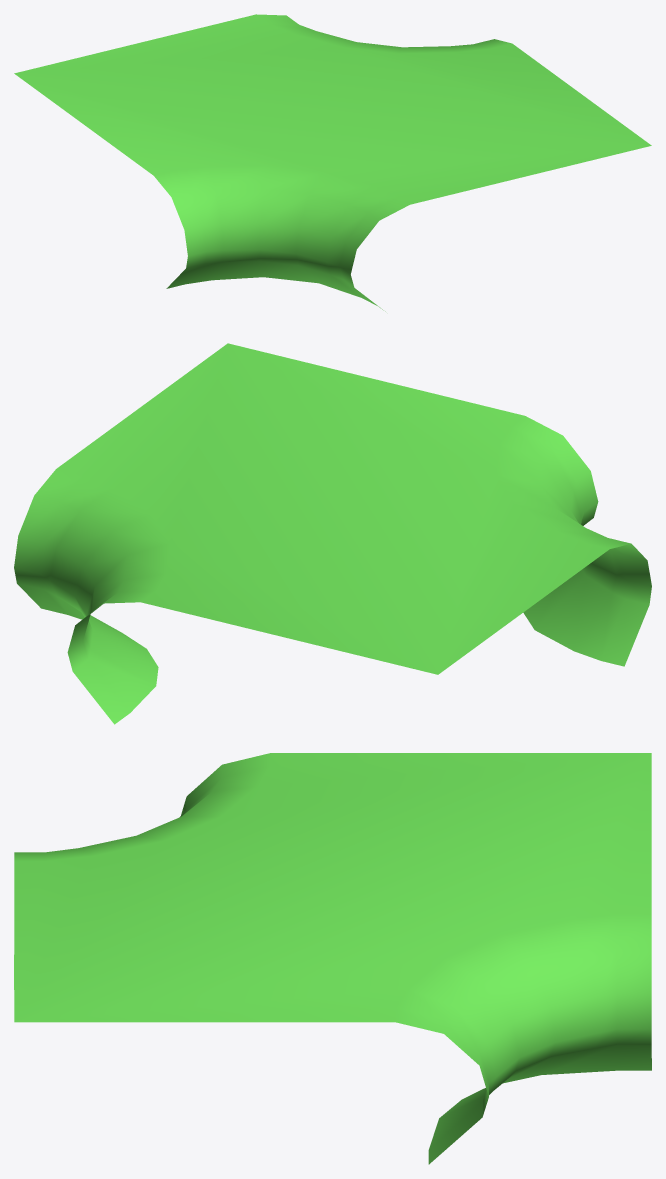
File: Grass_MergedCorner_Mesh.fbx
3 renders of one model, top to bottom at view 1: azimuth 30°, elevation 25°; view 2: azimuth 150°, elevation 25°; view 3: azimuth 270°, elevation 25°, orthographic. The views are drawn at different scales.
Parts seen in each view (by area): view 1: Grass_MergedCorner; view 2: Grass_MergedCorner; view 3: Grass_MergedCorner.
Boxes of the visible parts, box(x1,y1,x2,y2) form: Grass_MergedCorner: box(14, 14, 651, 311); Grass_MergedCorner: box(14, 343, 651, 724); Grass_MergedCorner: box(14, 753, 651, 1164).
Size of the model in its own units: 200 by 200 by 49.38.
